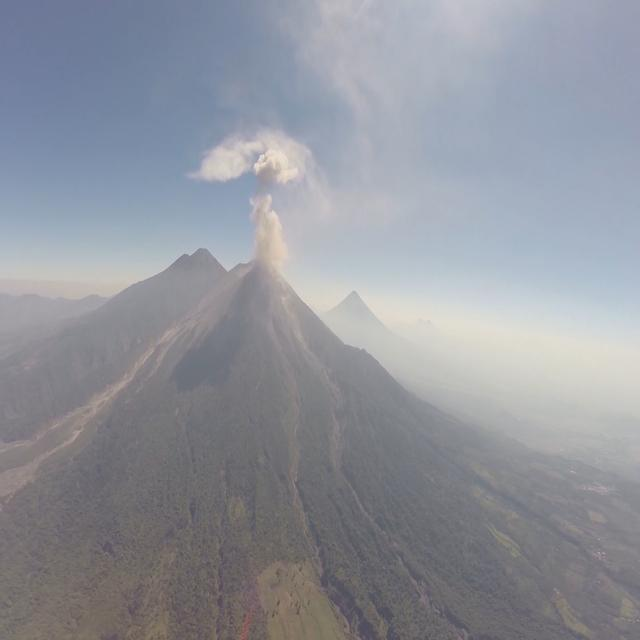Plume: (248, 192, 294, 270), (196, 136, 252, 184), (254, 148, 303, 188)
